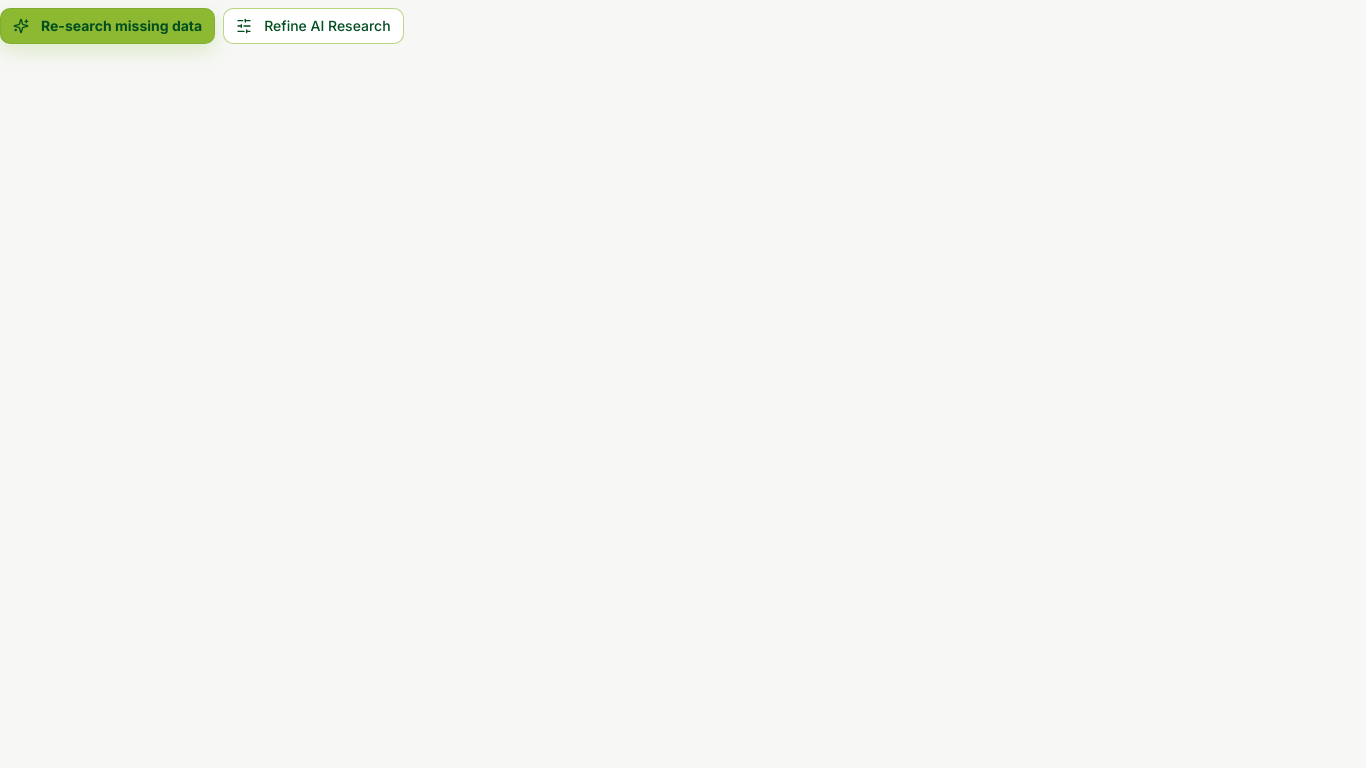
Test: Chemical V3 research hints › shows RPC errors and does not retry
What coordinates should you click on to do the following:
click the button "Refine AI Research"
I would click on:
 (313, 26)
Its box is [223,8,404,44].
(page scrolled)
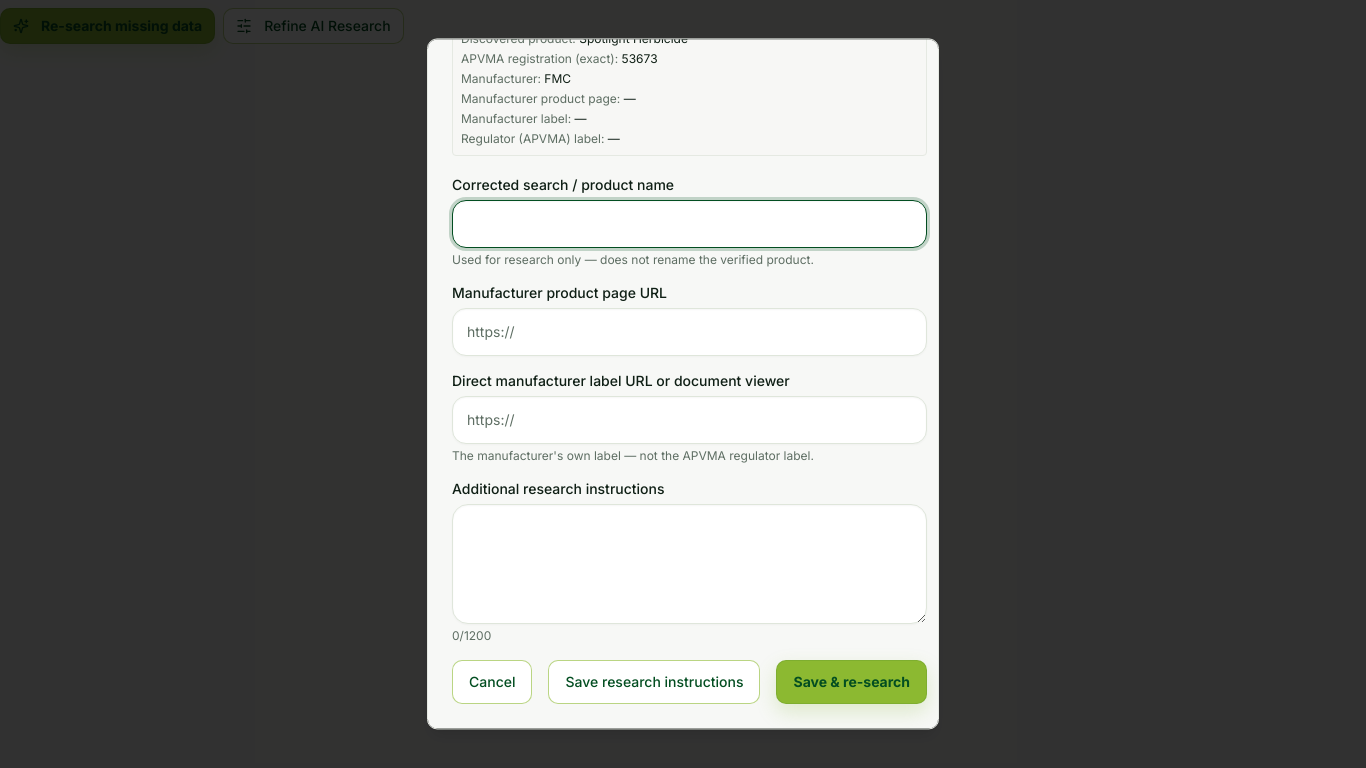
Expected: the dialog with test id "v3-hints-dialog" is shown, [427,38,939,730]
What coordinates should you click on to do the following:
click the button "Save & re-search"
I would click on:
 (852, 682)
Its box is [776,660,927,704].
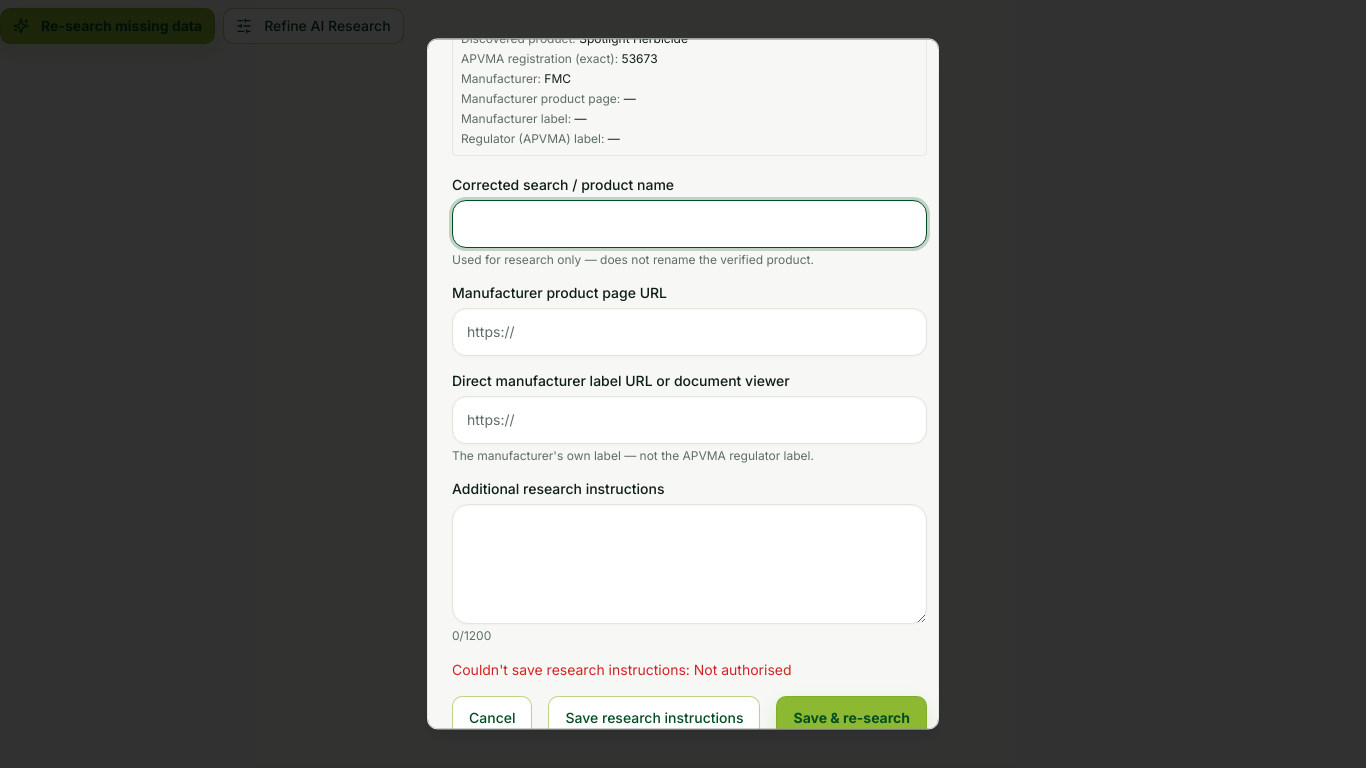
Expected: the text "Couldn't save research instructions: Not authorised" is shown, [452,661,792,678]
